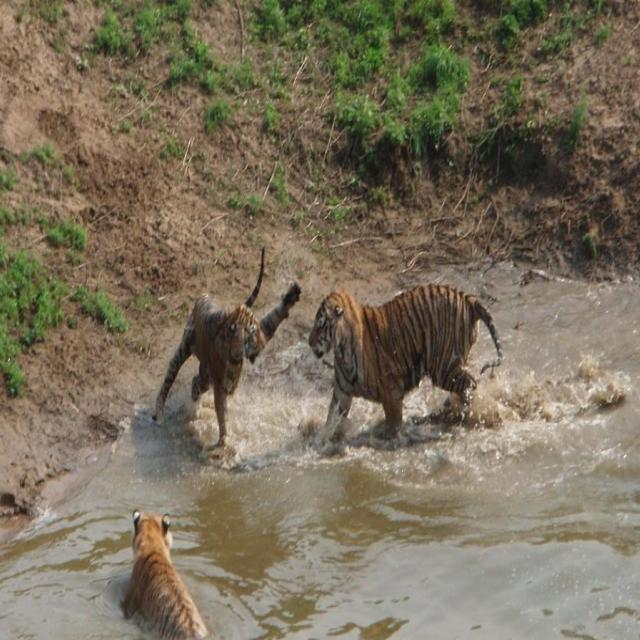Tiger: (307, 279, 502, 446), (150, 286, 267, 448), (116, 500, 203, 640)
